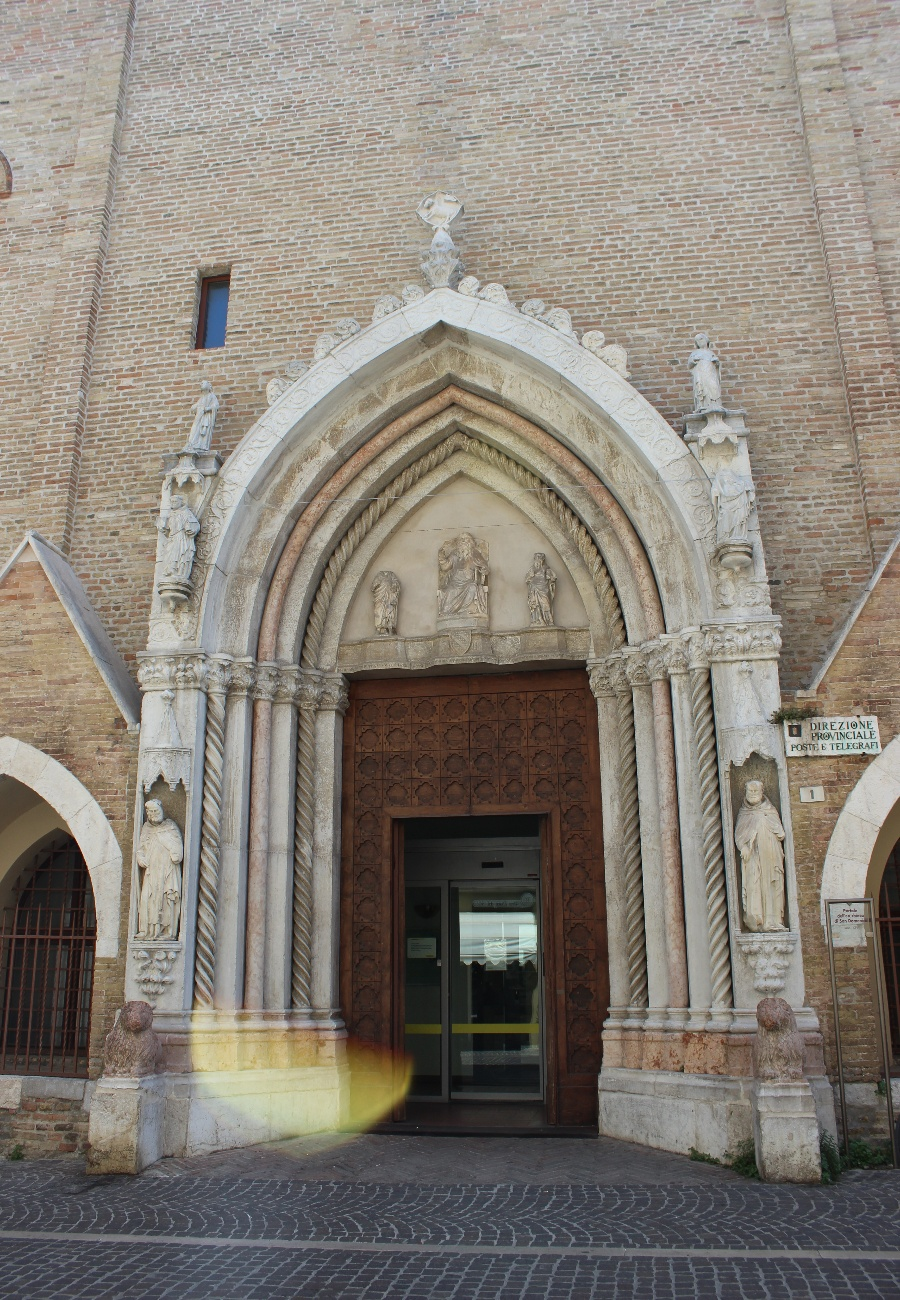Portale San Domenico: (111, 193, 822, 1164)
